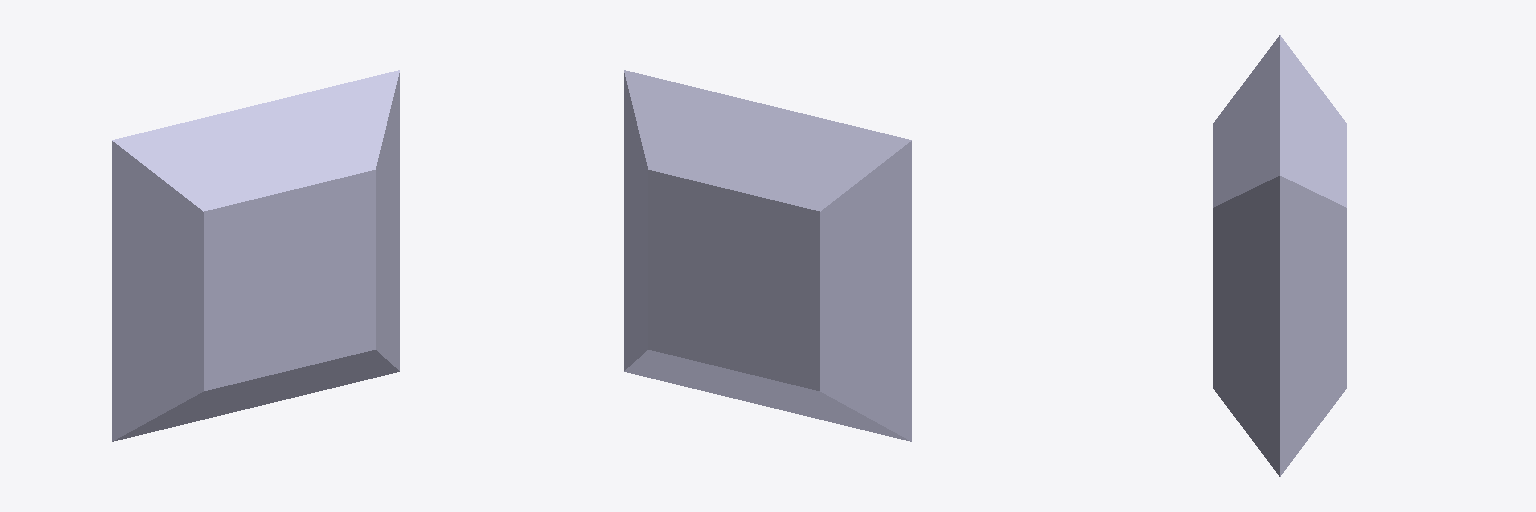
File: scheelite.obj
The picture shows the model from 3 angles: view 1: azimuth 30°, elevation 25°; view 2: azimuth 150°, elevation 25°; view 3: azimuth 270°, elevation 25°; orthographic projection.
Bounding box in the file's own units: 1.98 × 1.98 × 0.8.